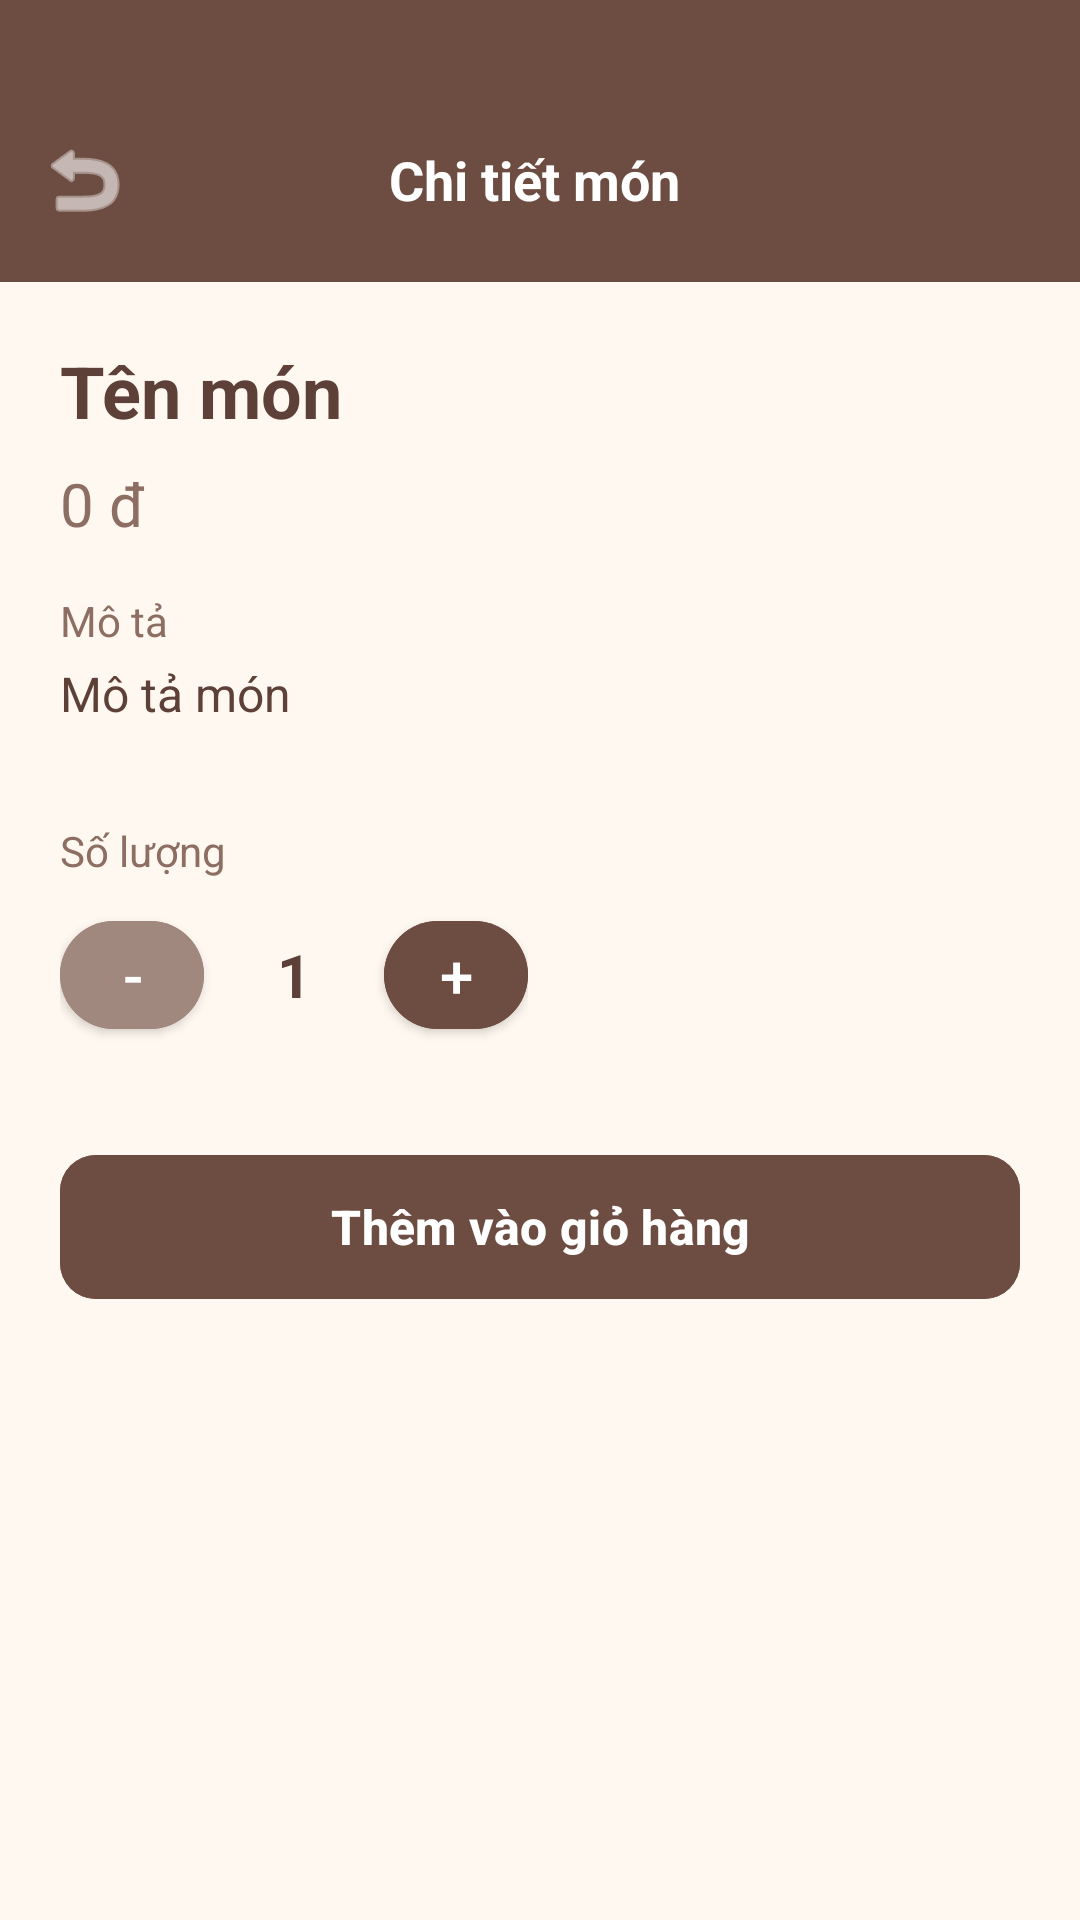

Icons on this 1080*1920 Android screen, each with its box as [x1,y1,x2,y2]:
Quay lại: [51,149,120,212]
